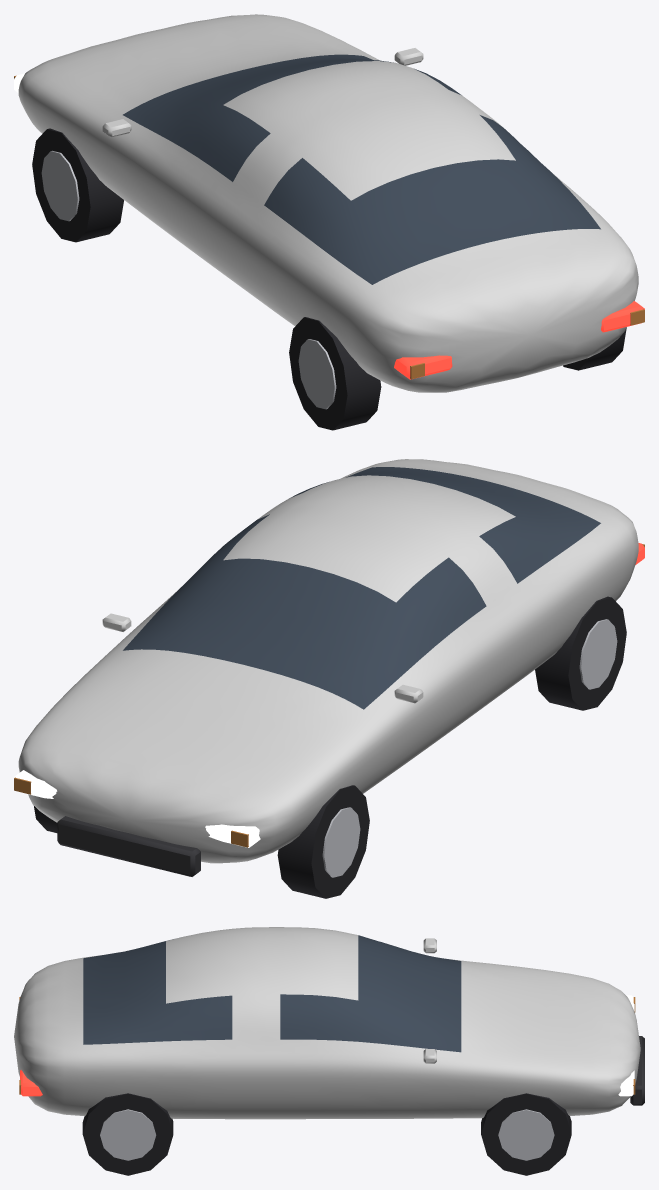
File: auto_freq_car_lod2.glb
3 views of the same model, one above another, from view 1: azimuth 30°, elevation 25°; view 2: azimuth 150°, elevation 25°; view 3: azimuth 270°, elevation 25° (orthographic). The views are drawn at different scales.
Visible parts, largest first — view 1: Karosserie, Rad_HL, Rad_VL, Rad_HR; view 2: Karosserie, Rad_VL, Rad_HL; view 3: Karosserie, Rad_HR, Rad_VR.
Part boxes in pixels (x1,y1,x2,y2): Karosserie: (14,14,644,392); Rad_HL: (289,317,381,430); Rad_VL: (32,128,123,242); Rad_HR: (563,327,626,370); Karosserie: (14,459,644,876); Rad_VL: (277,785,369,898); Rad_HL: (535,596,626,710); Karosserie: (14,927,644,1119); Rad_HR: (82,1093,173,1175); Rad_VR: (481,1093,571,1175).
Size of the model in its own units: 1.93 by 1.32 by 4.32.
